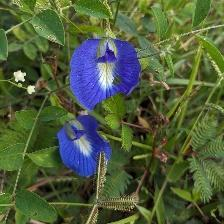shankupushpam: (70, 21, 142, 112), (57, 117, 113, 181)
